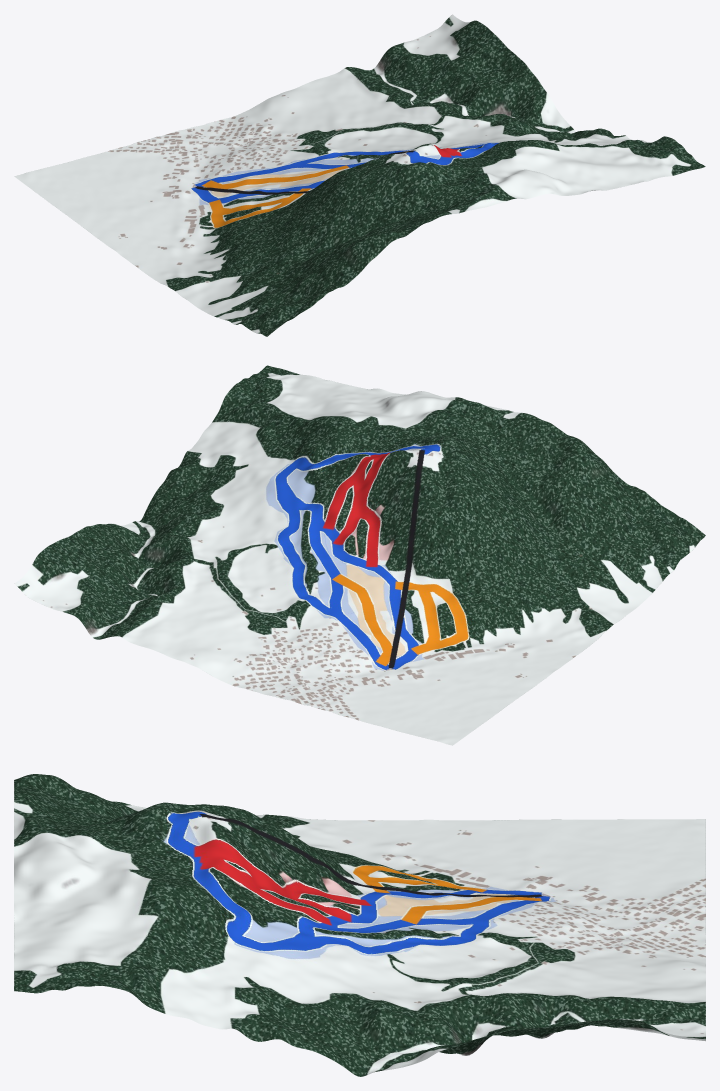
3 views of the same model, one above another, from view 1: azimuth 30°, elevation 25°; view 2: azimuth 150°, elevation 25°; view 3: azimuth 270°, elevation 25° (orthographic). The views are drawn at different scales.
Parts seen in each view (by area): view 1: D1_Buchenberg.glb; view 2: D1_Buchenberg.glb; view 3: D1_Buchenberg.glb.
Part boxes in pixels (left/top/right/bottom): D1_Buchenberg.glb: left=14, top=14, right=705, bottom=336; D1_Buchenberg.glb: left=14, top=365, right=705, bottom=745; D1_Buchenberg.glb: left=14, top=774, right=705, bottom=1076.
Size of the model in its own units: 1883 by 452 by 1883.
1 material, 1 textured.
